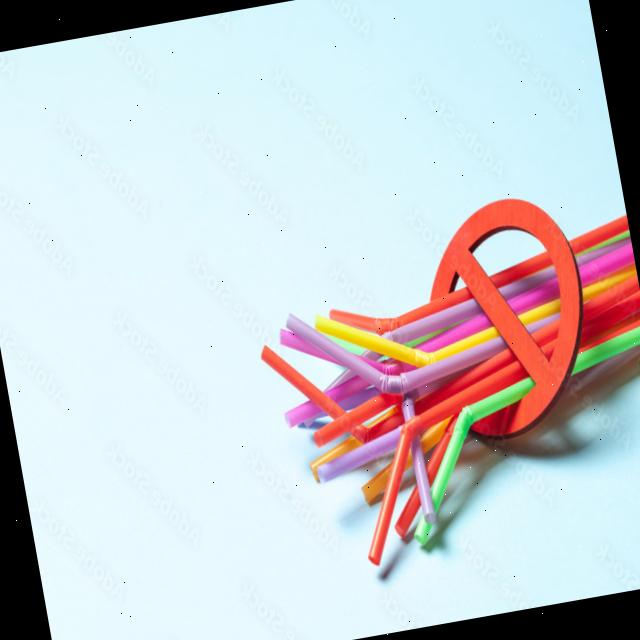plastic: (281, 272, 487, 413)
